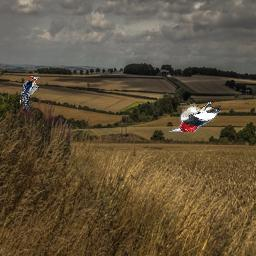Woodpecker: (169, 102, 222, 133), (20, 77, 40, 110)
